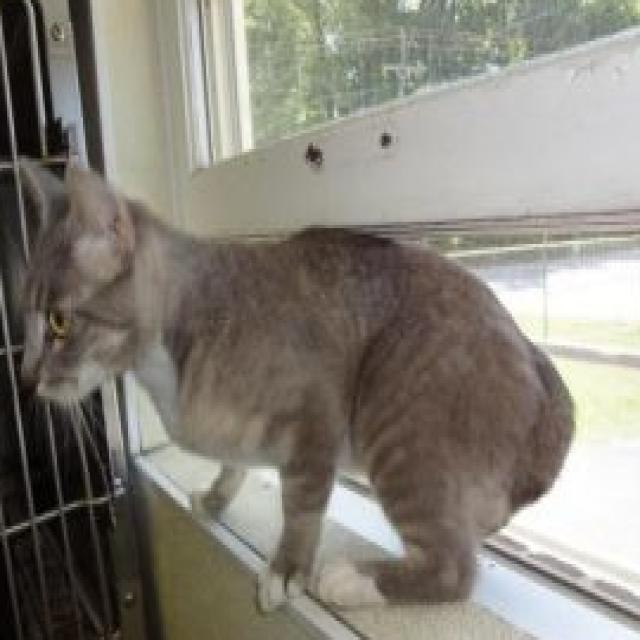American Bobtail: (12, 148, 580, 621)
